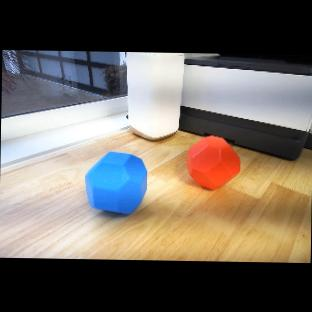V5_BLUE: (84, 149, 149, 215)
V5_RED: (185, 135, 242, 191)
